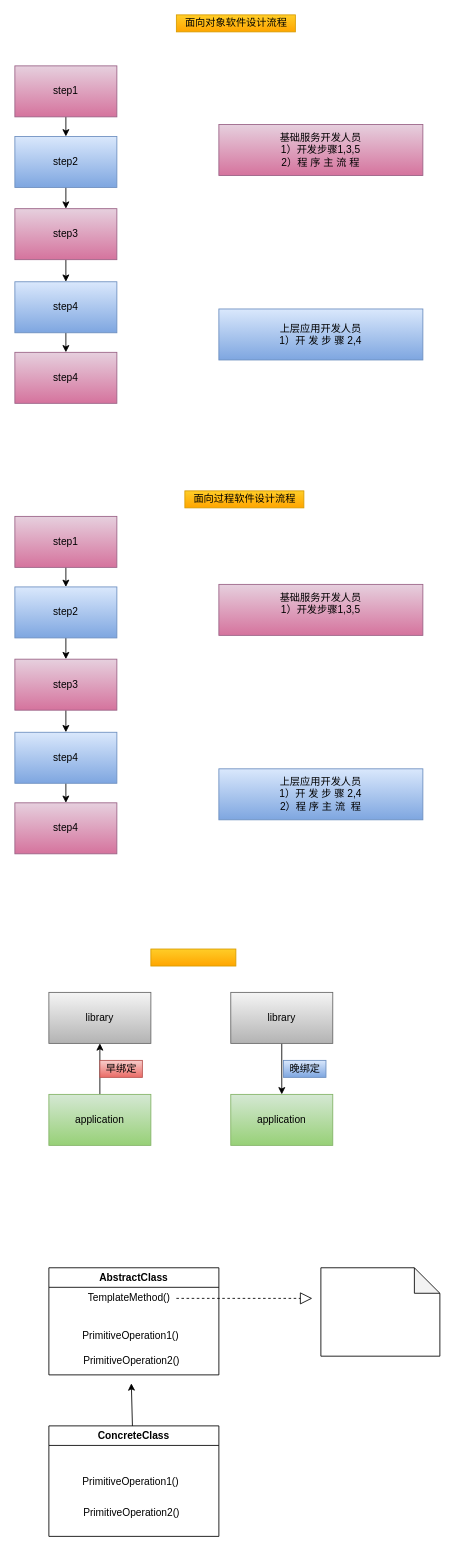
This 455x1551 diagram has some shape labels left out. Here are the shapes that lost their labels. From the top down, the centre of each, then its label:
point (193, 957): 早绑定与晚绑定
point (380, 1311): PrimitiveOperation1() PrimitiveOperation2() ...
